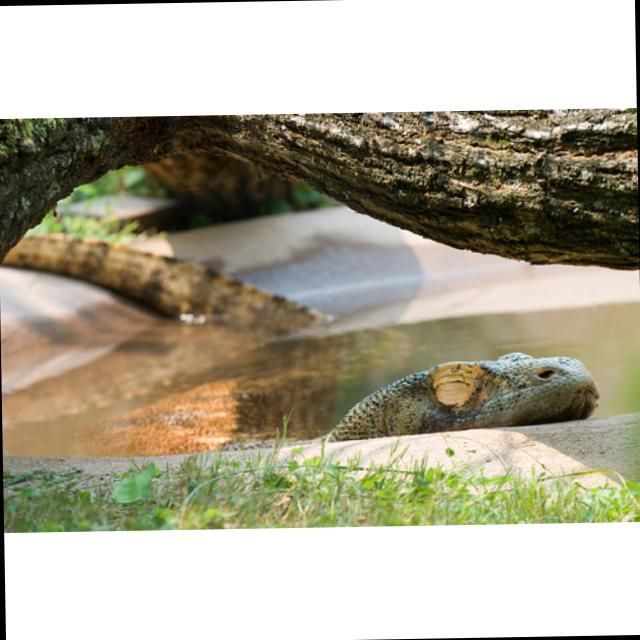KomodoDragon: (4, 219, 605, 449)
